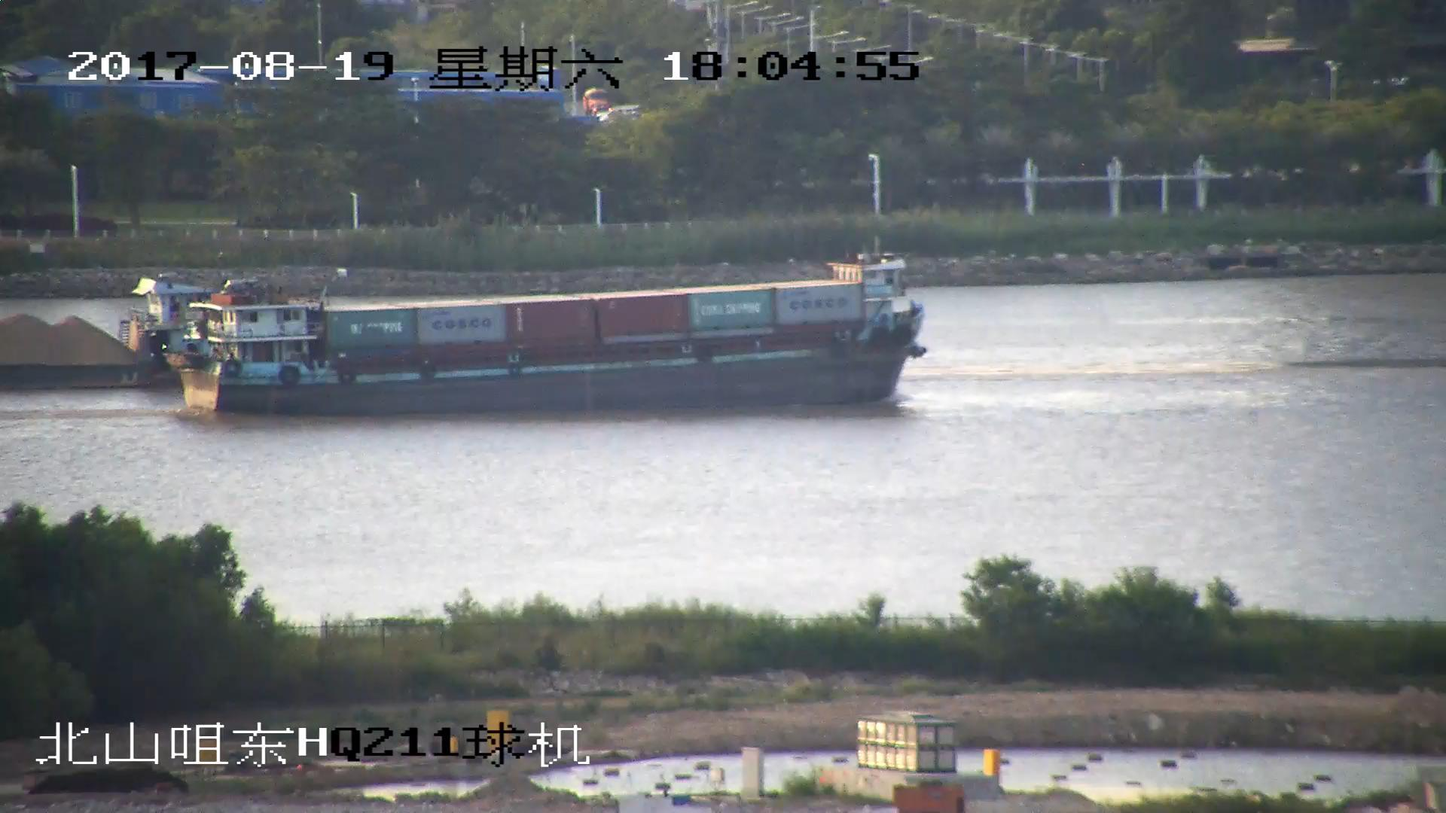container ship: (166, 253, 925, 410)
ore carrier: (0, 306, 163, 391)
